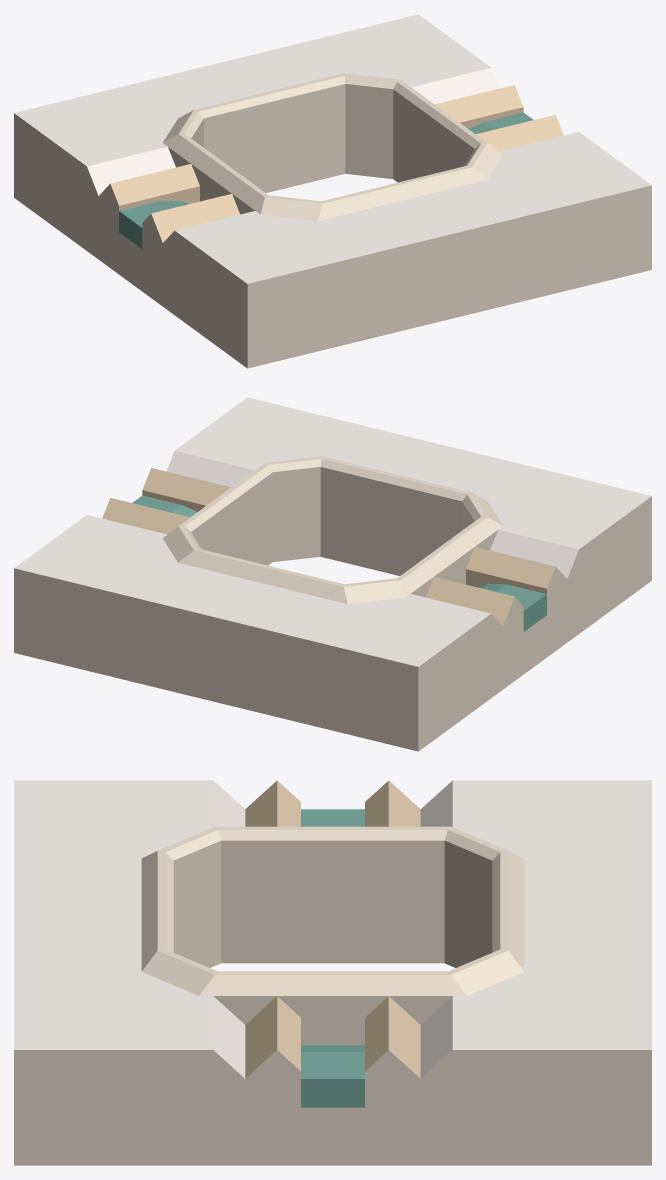
The model's file is Puzzle_Floor_Conduit_Control_Housing_Straight.glb.
3 views of the same model, one above another, from view 1: azimuth 30°, elevation 25°; view 2: azimuth 150°, elevation 25°; view 3: azimuth 270°, elevation 25° (orthographic). The views are drawn at different scales.
Visible parts, largest first — view 1: Puzzle_Floor_Conduit_Control_Housing_Straight; view 2: Puzzle_Floor_Conduit_Control_Housing_Straight; view 3: Puzzle_Floor_Conduit_Control_Housing_Straight.
Boxes of the visible parts, bbox=[...] form: Puzzle_Floor_Conduit_Control_Housing_Straight: bbox=[14, 14, 651, 368]; Puzzle_Floor_Conduit_Control_Housing_Straight: bbox=[14, 397, 651, 751]; Puzzle_Floor_Conduit_Control_Housing_Straight: bbox=[14, 780, 651, 1165].
Bounding box in the file's own units: 1 × 0.225 × 1.
